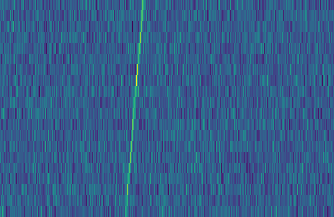signal: (120, 0, 148, 217)
